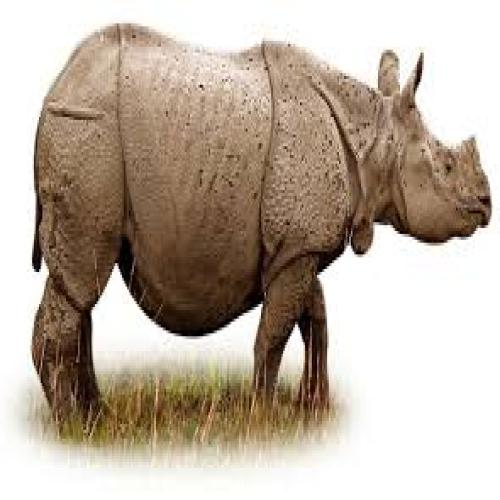rhino-endangered: (27, 15, 491, 441)
